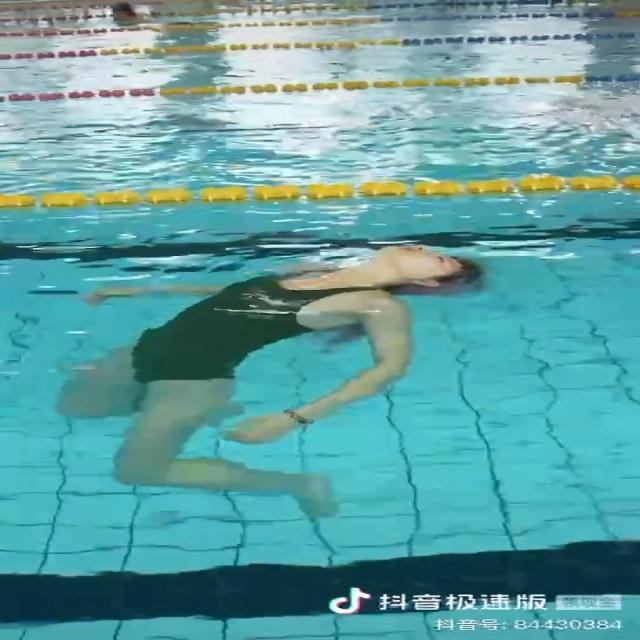Drowning: (59, 238, 481, 519)
